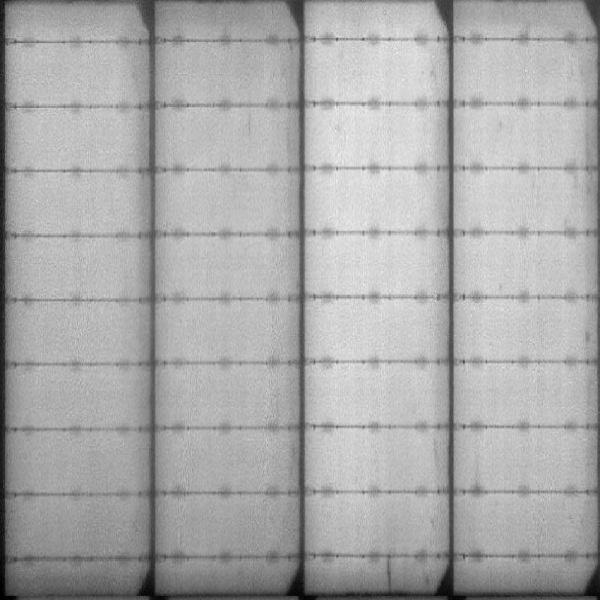scratch: (383, 560, 405, 589)
